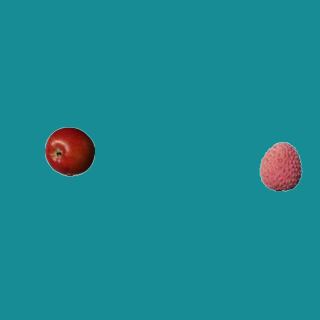Apple Braeburn: (44, 126, 94, 176)
Lychee: (255, 141, 305, 191)
